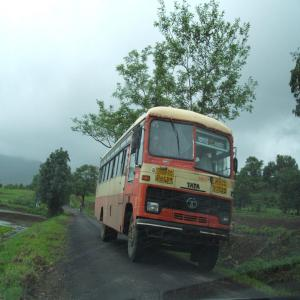Vehicle-registration-plate: (155, 170, 175, 186), (212, 178, 228, 196)
